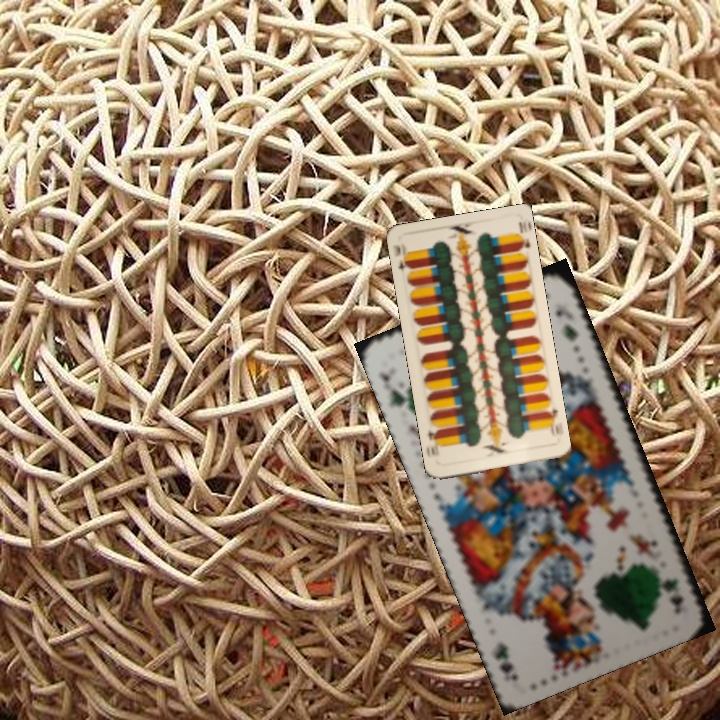E10: (390, 240, 414, 280), (541, 404, 561, 439)
GK: (376, 368, 414, 412), (658, 574, 686, 616)
